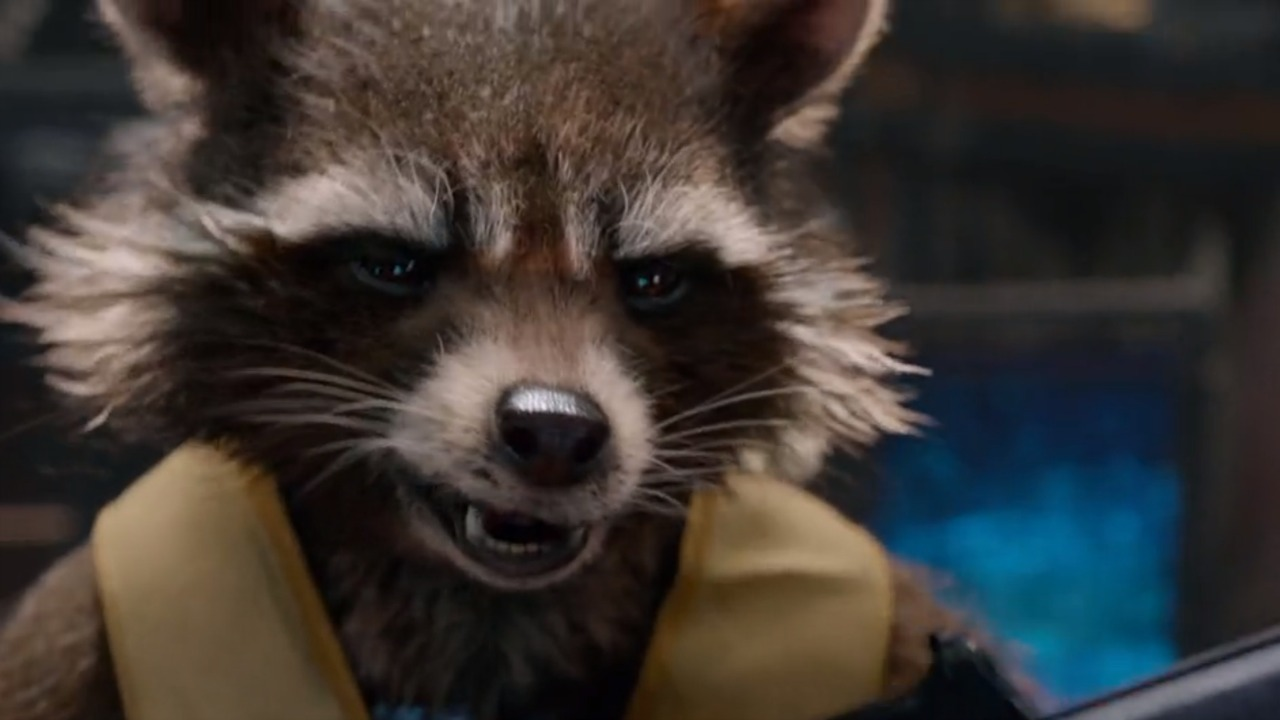raccoon: (26, 1, 1053, 708)
